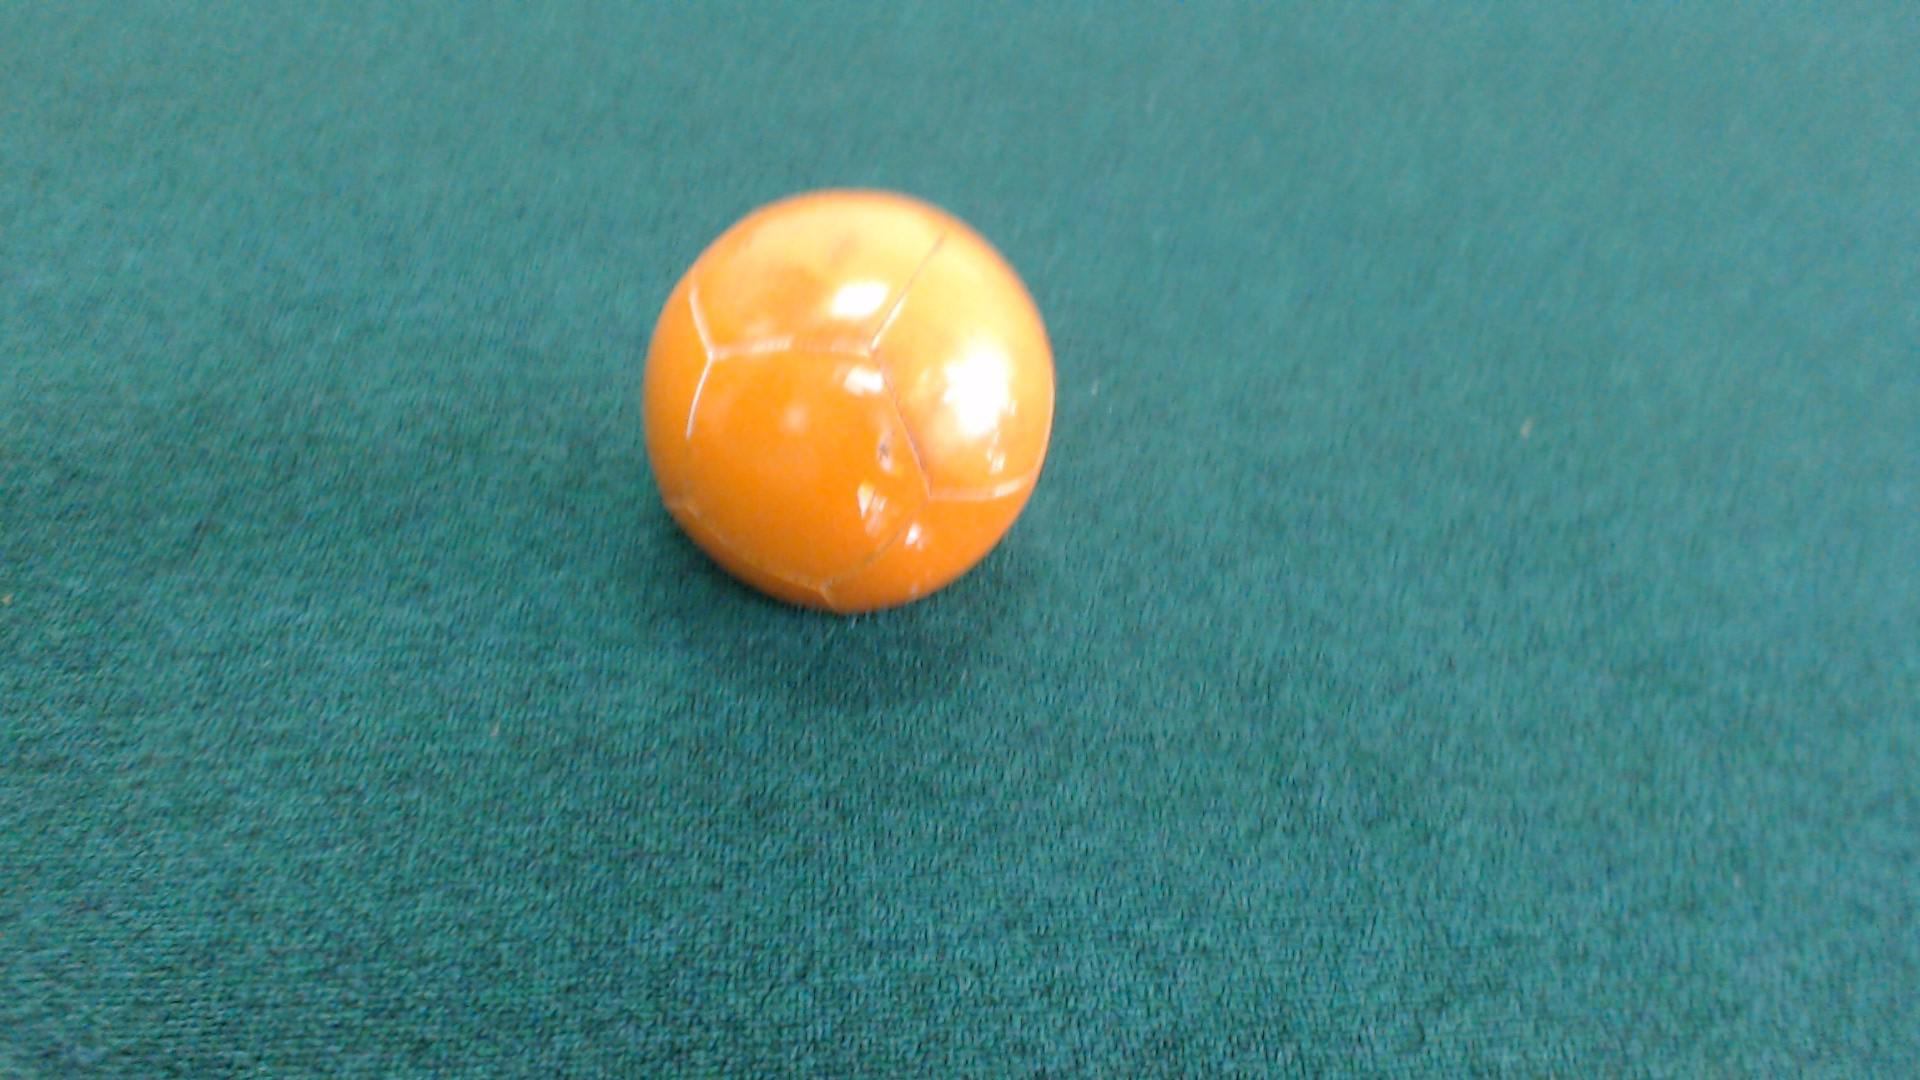bola: (617, 149, 1102, 637)
